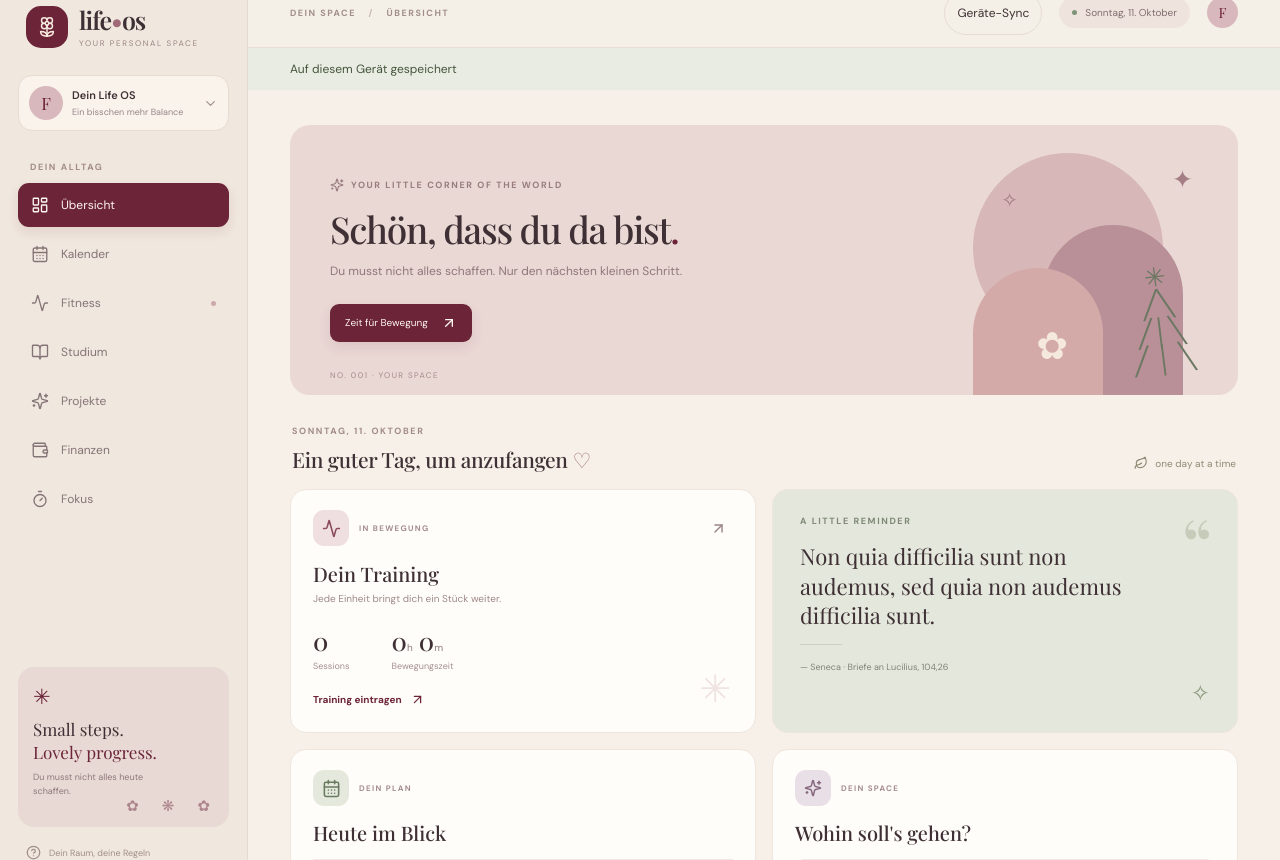
Test case: LIFE-OS fitness tracker › lets the user start a session and add a set
What coordinates should you click on to do the following:
click the button "Fitness"
I would click on:
 (124, 303)
Its box is [18, 281, 229, 325].
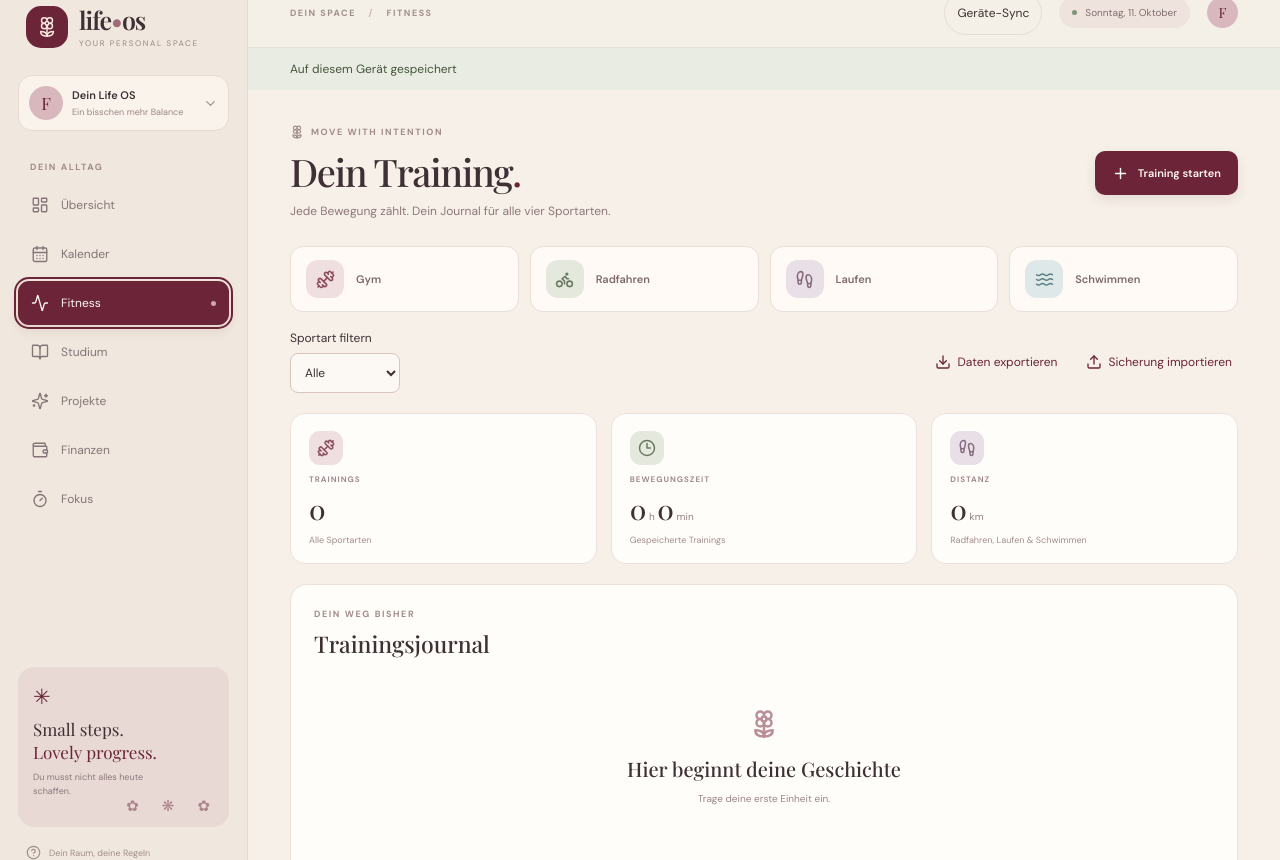
What coordinates should you click on to do the following:
click the button "Training starten"
I would click on:
 (1166, 173)
Its box is [1095, 151, 1238, 195].
(page scrolled)
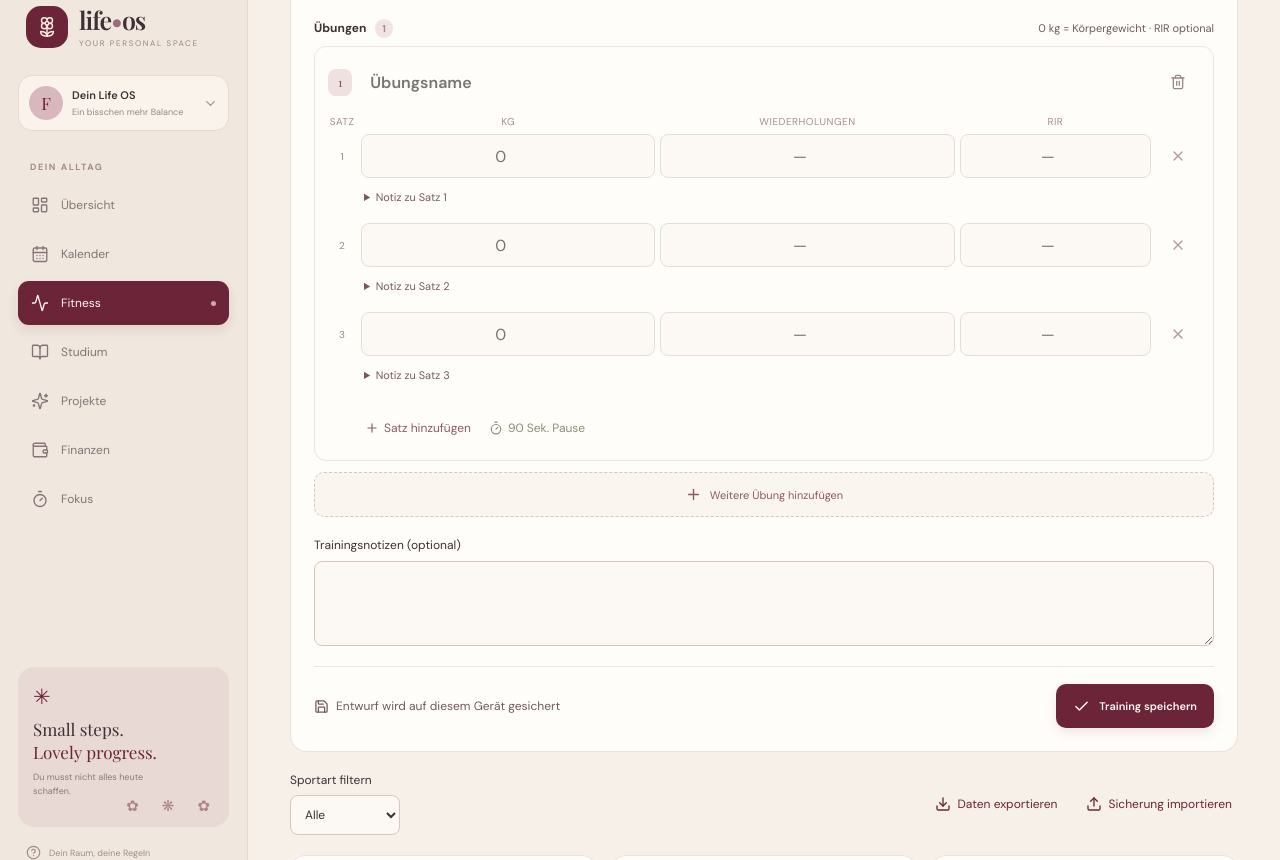
What coordinates should you click on to do the following:
click the button "Satz hinzufügen"
I would click on:
 (418, 428)
Its box is [365, 406, 471, 450].
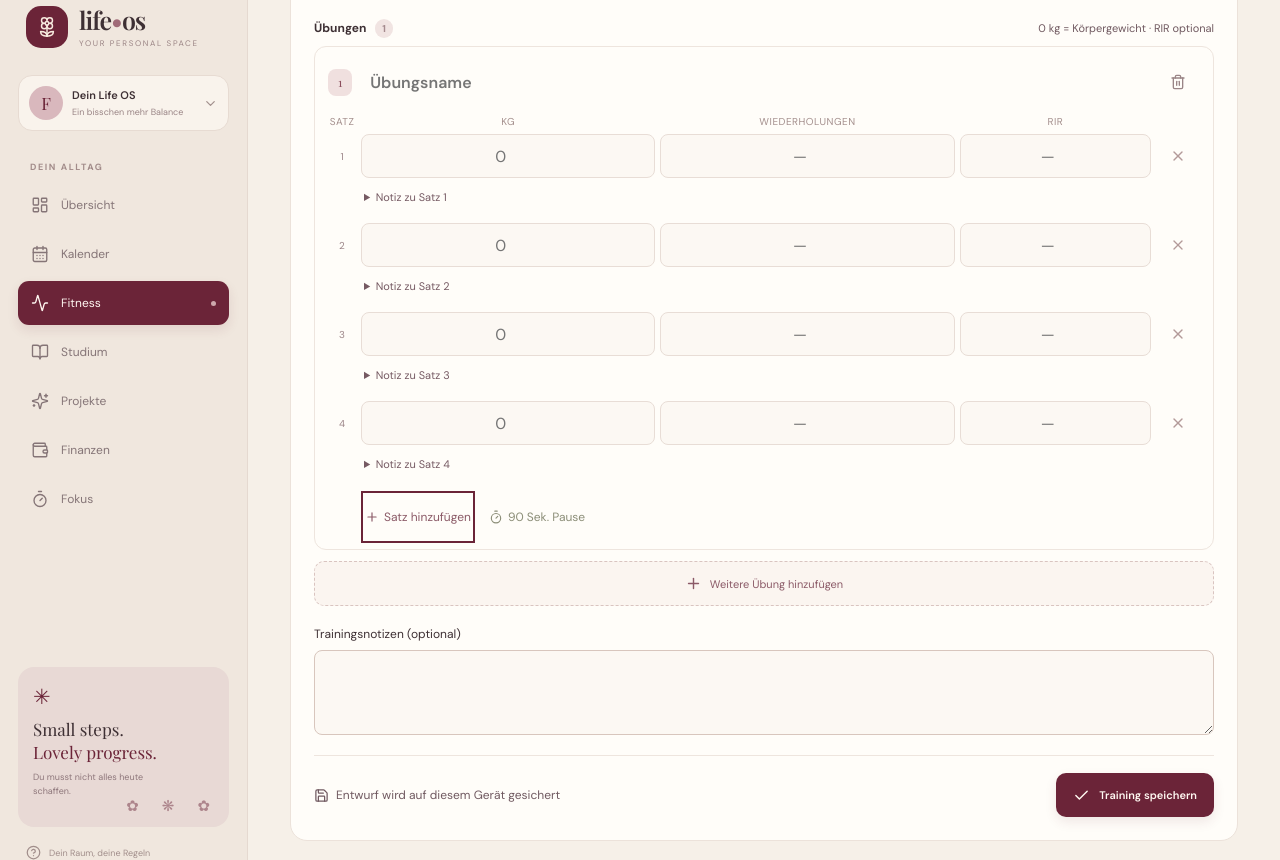
expect the number field named "Gewicht" is shown: met, box [361, 134, 655, 178]
expect the number of number fields named "Gewicht" is 4: met, box [361, 134, 655, 178]; [361, 223, 655, 267]; [361, 312, 655, 356]; [361, 401, 655, 445]
